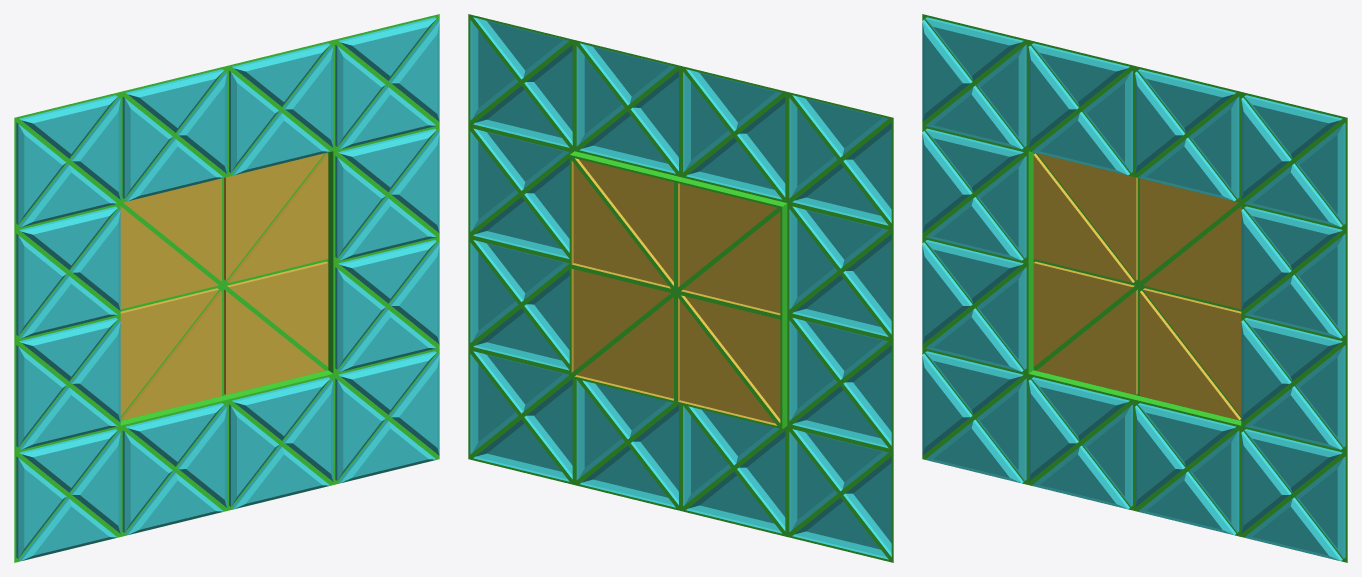
The model's file is Wall_46_A.fbx.
3 views of the same model, side by side, from view 1: azimuth 30°, elevation 25°; view 2: azimuth 150°, elevation 25°; view 3: azimuth 330°, elevation 25° (orthographic).
Visible parts, largest first — view 1: Wall_46_A; view 2: Wall_46_A; view 3: Wall_46_A.
Part boxes in pixels (x1,y1,x2,y2): Wall_46_A: [14, 14, 439, 562]; Wall_46_A: [468, 14, 893, 562]; Wall_46_A: [922, 14, 1347, 562].
Size of the model in its own units: 457 by 457 by 16.33.
